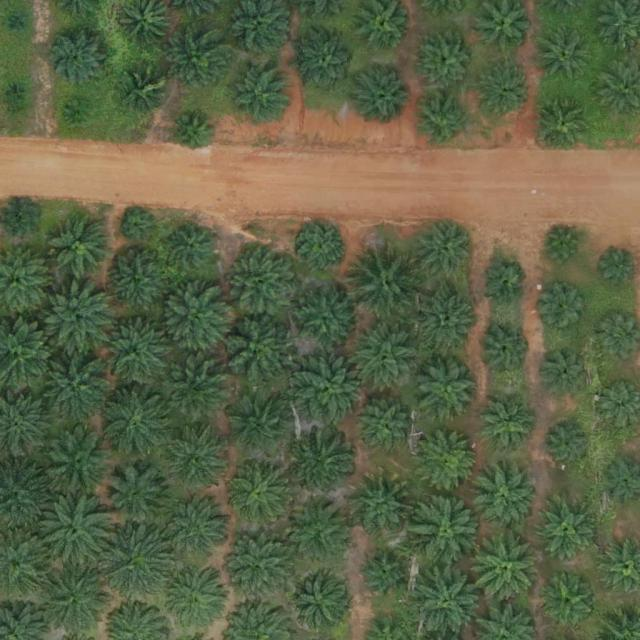Healthy: (34, 346, 112, 425), (40, 490, 118, 569), (99, 384, 177, 463), (96, 525, 174, 604), (224, 242, 302, 321), (217, 312, 295, 391), (220, 529, 298, 608), (292, 352, 370, 431), (349, 243, 427, 322), (346, 320, 424, 399), (410, 492, 488, 571), (468, 530, 546, 609), (38, 561, 116, 640), (97, 317, 175, 395), (42, 283, 113, 353), (102, 463, 173, 533), (164, 497, 235, 567), (157, 564, 227, 635), (42, 24, 112, 94), (43, 428, 113, 498), (161, 285, 231, 355), (161, 355, 231, 425), (49, 217, 112, 280), (229, 397, 292, 460), (295, 287, 358, 350), (289, 498, 352, 561), (168, 29, 230, 92), (230, 64, 292, 127), (417, 30, 480, 92), (105, 251, 167, 314), (230, 460, 292, 523), (297, 432, 359, 495), (354, 474, 416, 537), (414, 220, 477, 282), (417, 292, 479, 355), (417, 359, 479, 422), (418, 432, 480, 495), (475, 467, 537, 530), (534, 499, 596, 562), (287, 571, 349, 634), (296, 32, 358, 94), (354, 64, 416, 126), (417, 94, 472, 149), (479, 65, 534, 120), (539, 28, 594, 83), (538, 96, 593, 151), (169, 432, 224, 487), (359, 401, 414, 456), (481, 399, 536, 454), (542, 577, 597, 632), (124, 69, 171, 116), (169, 225, 216, 272), (300, 223, 347, 270), (361, 553, 408, 600)
Small: (477, 323, 532, 378), (542, 347, 589, 395), (480, 260, 527, 308), (541, 287, 588, 334), (546, 422, 593, 469), (173, 115, 213, 154), (601, 248, 640, 288), (544, 228, 583, 267), (123, 212, 154, 243), (67, 100, 91, 124), (7, 84, 23, 100), (12, 15, 27, 31)
